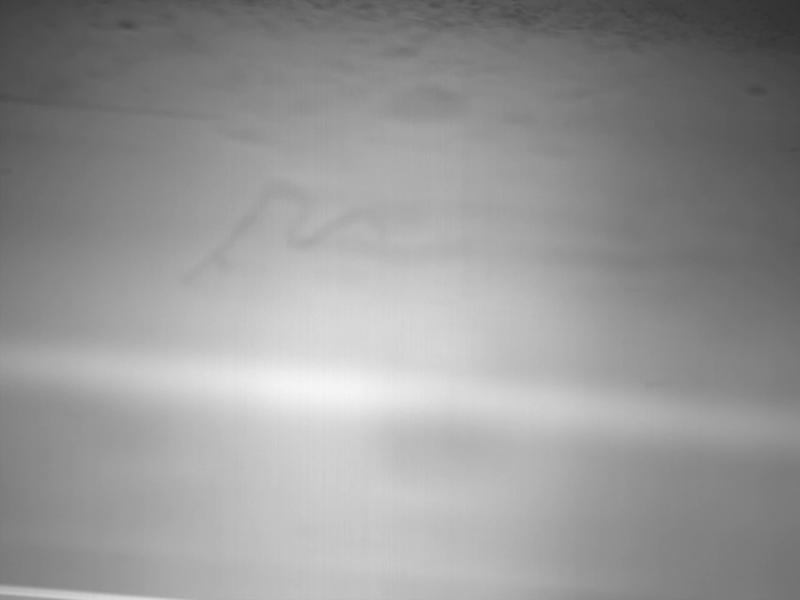bead: (742, 81, 770, 101), (113, 19, 142, 34)
fiber: (177, 179, 400, 289), (1, 84, 272, 144)
